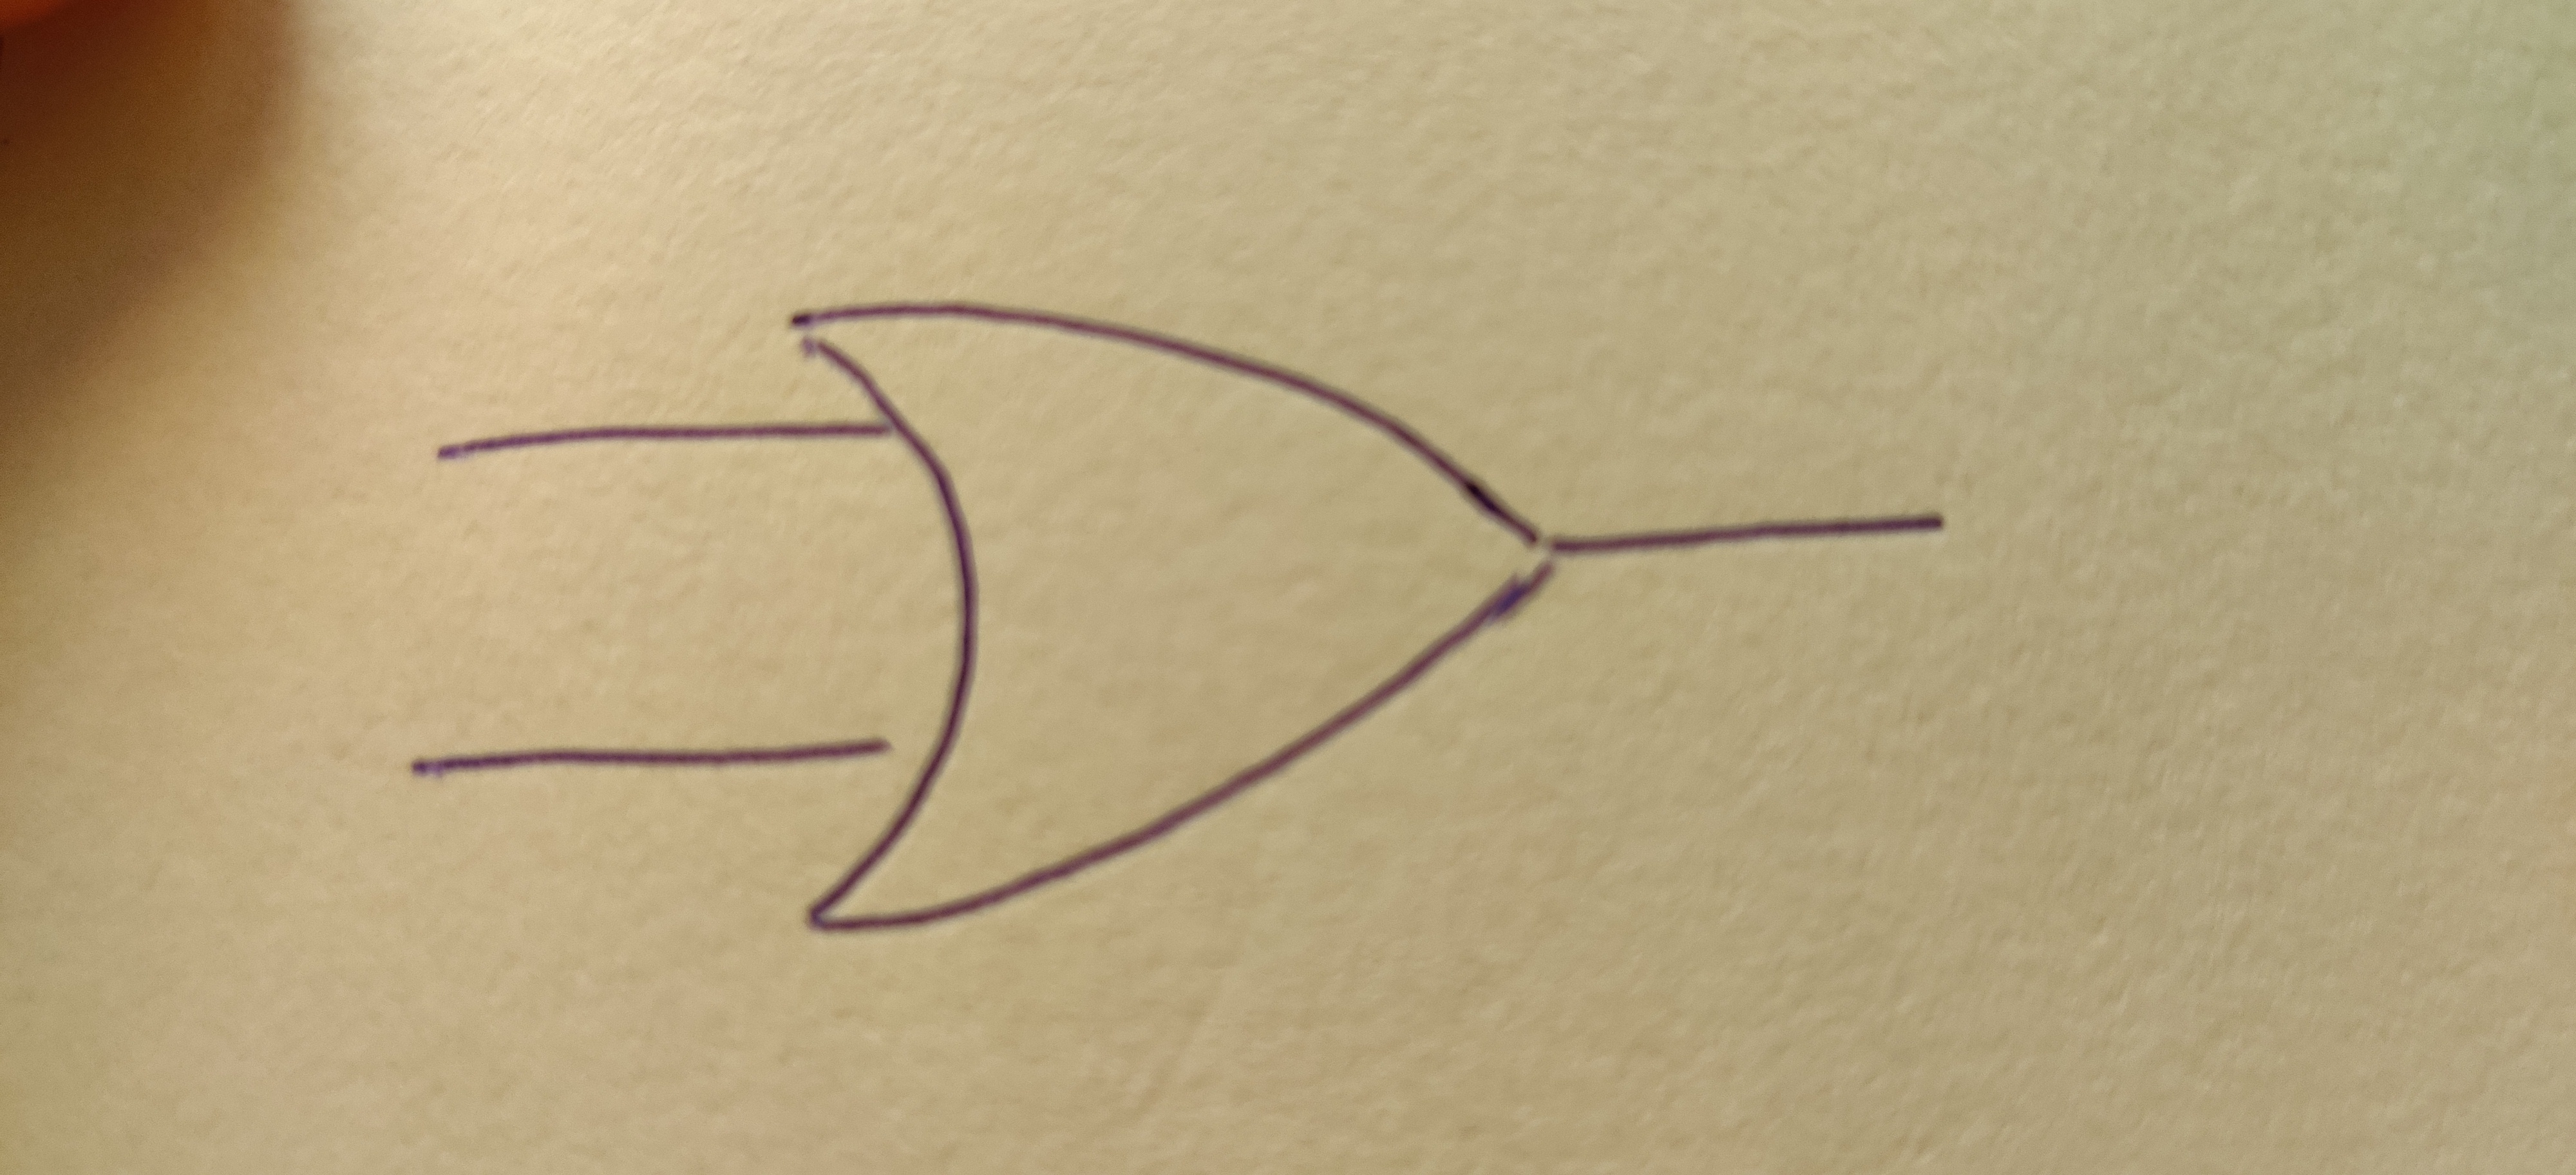or: (805, 309, 1548, 930)
